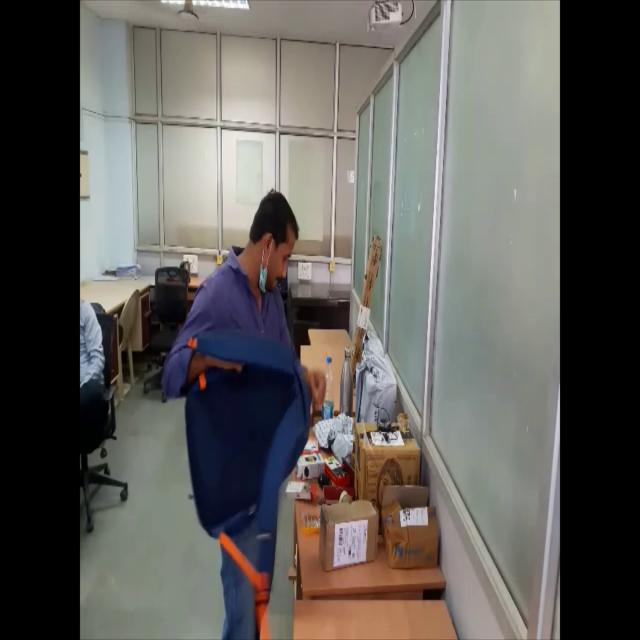normal: (162, 189, 326, 640)
